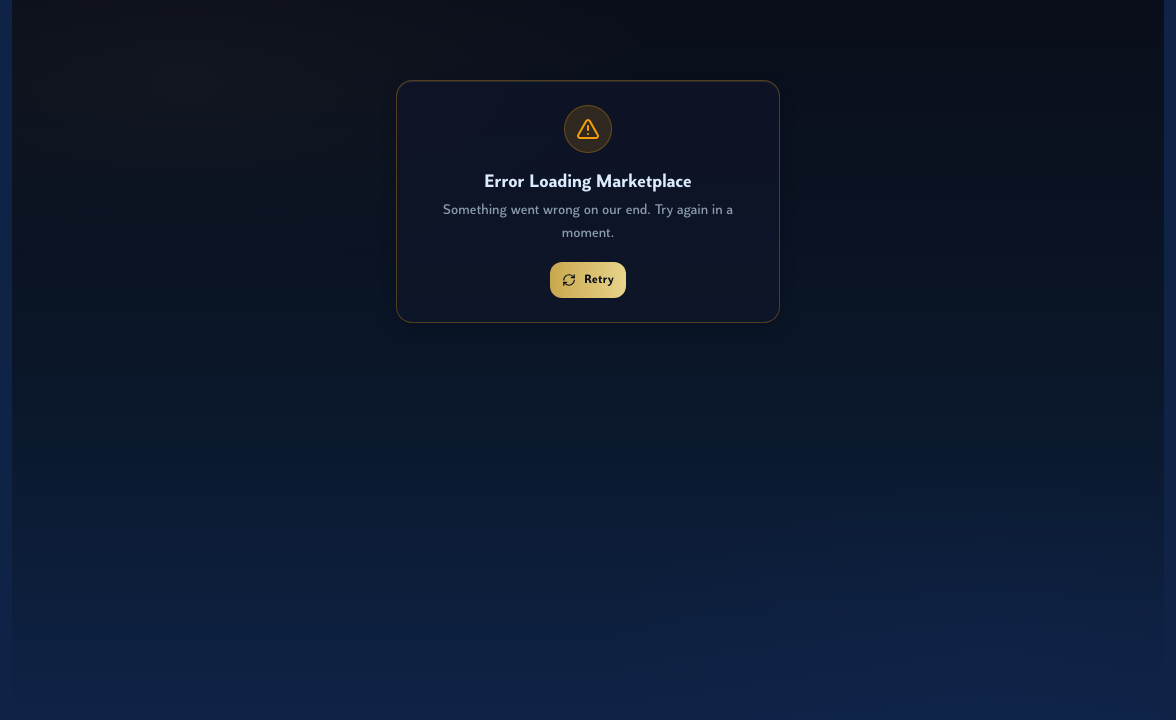
it: GroomList — load failure › retry on a failed load refetches the marketplace and never asks to spend a refresh
The width and height of the screenshot is (1176, 720).
Click the button "Retry": {"x": 588, "y": 280} [550,262,626,298]
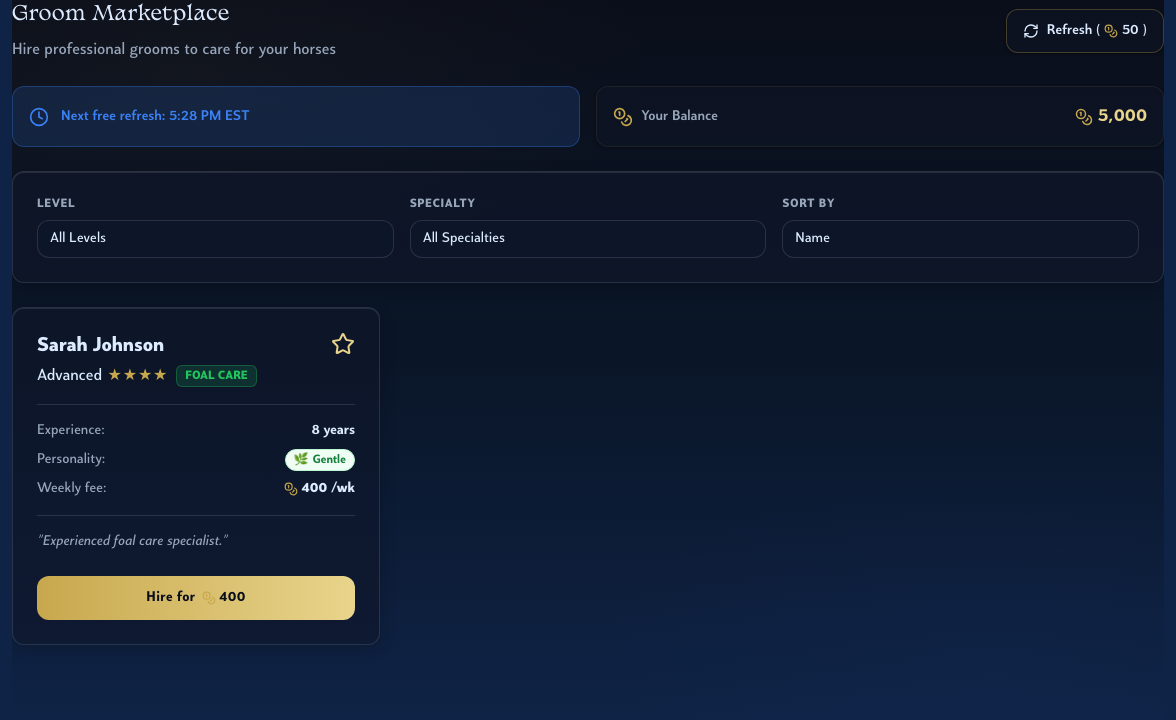
Now the heading "Sarah Johnson" is shown, box [37,336,164,356]
